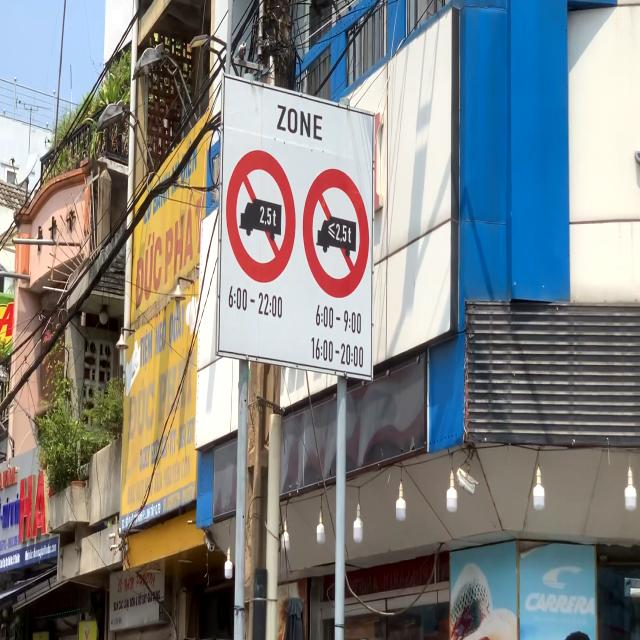P.106b: (226, 148, 296, 284), (302, 168, 370, 299)
